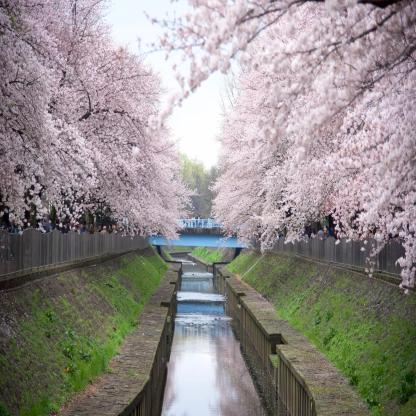Someiyoshino: (215, 2, 415, 239), (0, 6, 195, 224)
